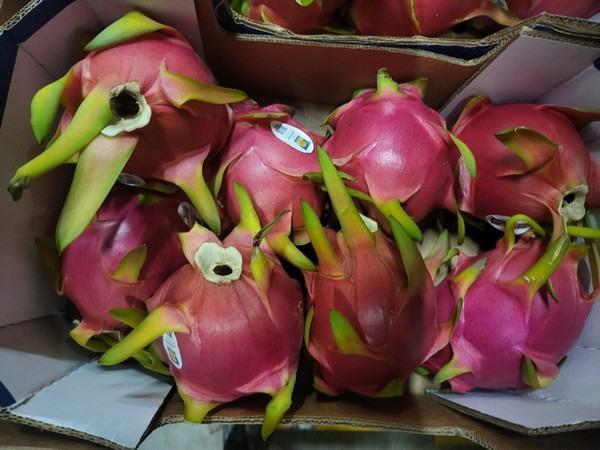dragon-fruit: (57, 31, 230, 183), (423, 244, 589, 392), (158, 242, 307, 400), (308, 235, 441, 388), (58, 187, 196, 333), (451, 101, 593, 238), (324, 86, 454, 232), (220, 98, 326, 238), (350, 0, 489, 39), (471, 0, 600, 32), (226, 0, 347, 34)
